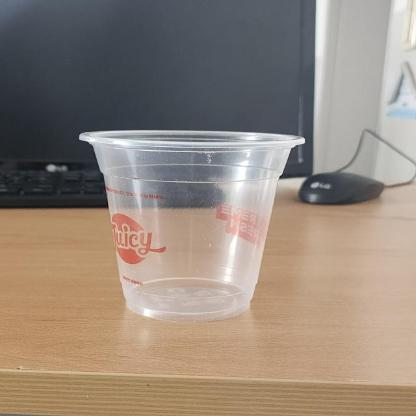Plastic Cup: (79, 128, 309, 320)
